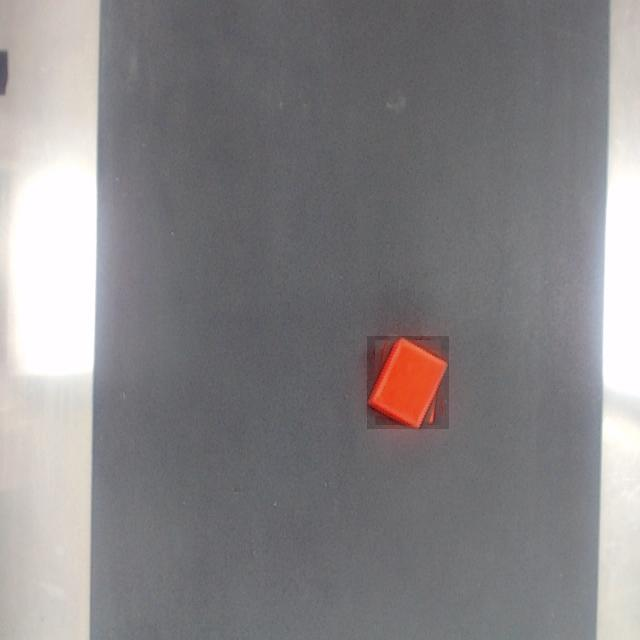Rojo: (367, 336, 449, 429)
